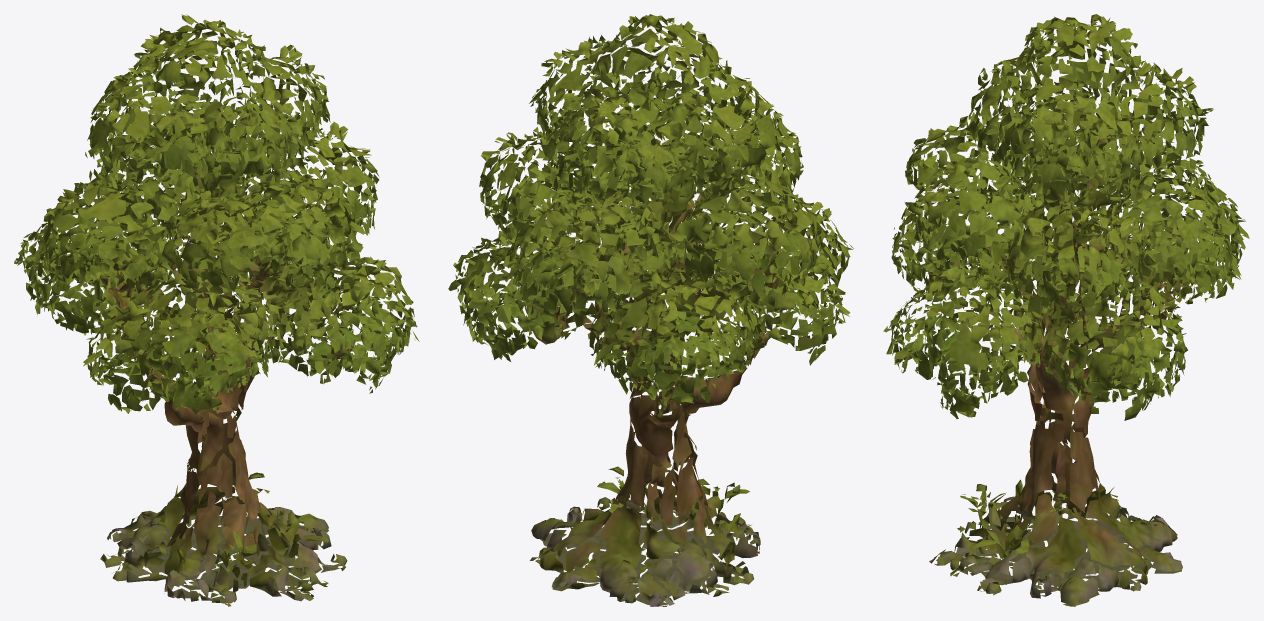
Rendered from tree.glb.
3 renders of one model, left to right at view 1: azimuth 30°, elevation 25°; view 2: azimuth 150°, elevation 25°; view 3: azimuth 270°, elevation 25°, orthographic.
Bounding box in the file's own units: 1.24 × 1.89 × 1.18.
Materials: 1 (1 with a texture image).
